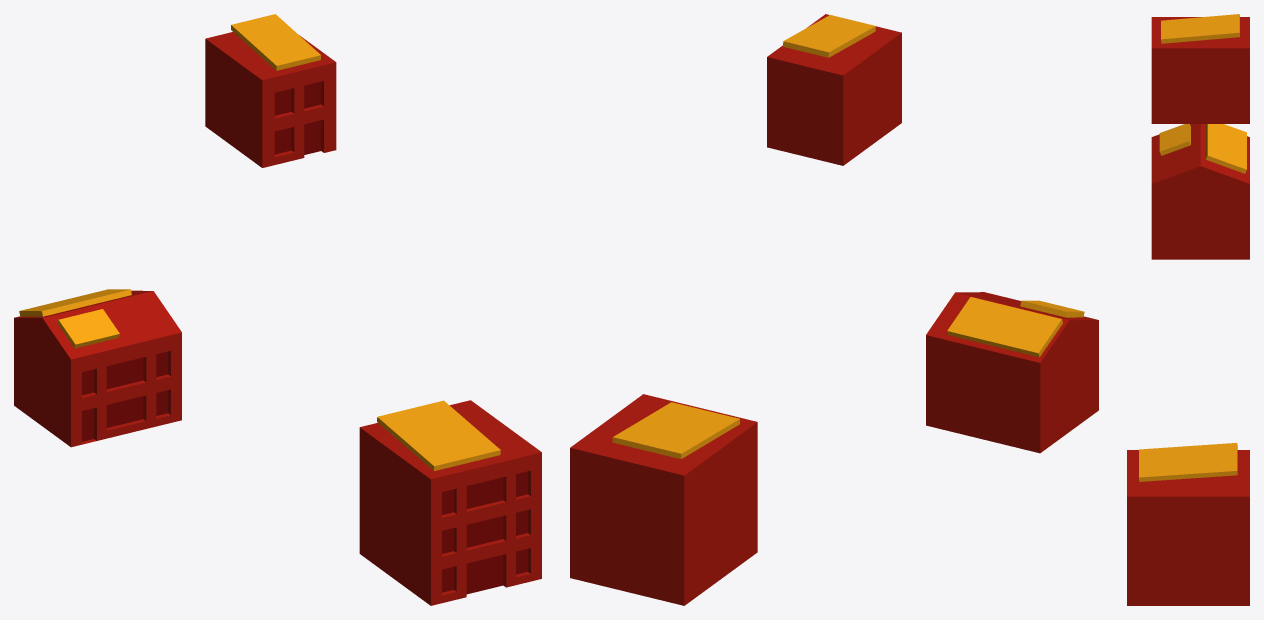
The model's file is BinaGrup17.gltf.
3 views of the same model, side by side, from view 1: azimuth 30°, elevation 25°; view 2: azimuth 150°, elevation 25°; view 3: azimuth 270°, elevation 25° (orthographic). The views are drawn at different scales.
Visible parts, largest first — view 1: Building_047.003, Building_032.003, Building_038.003, Building_047_RoofCap_0.001, Building_047.005, Building_038_RoofCap_0.001, Building_032.005, Building_032_RoofCap_0.001, Building_038.005, Building_032_RoofCap_1.001, Building_047.004; view 2: Building_047.003, Building_032.003, Building_038.003, Building_032_RoofCap_1.001, Building_047_RoofCap_0.001, Building_038_RoofCap_0.001; view 3: Building_047.003, Building_032.003, Building_038.003, Building_047_RoofCap_0.001, Building_038_RoofCap_0.001, Building_032_RoofCap_1.001, Building_032_RoofCap_0.001.
Part boxes in pixels (x1,y1,x2,y2): Building_047.003: (359, 400, 541, 605); Building_032.003: (14, 290, 181, 447); Building_038.003: (205, 32, 336, 167); Building_047_RoofCap_0.001: (377, 400, 500, 470); Building_047.005: (442, 471, 527, 592); Building_038_RoofCap_0.001: (231, 14, 320, 70); Building_032.005: (82, 351, 167, 427); Building_032_RoofCap_0.001: (57, 309, 119, 348); Building_038.005: (274, 81, 321, 154); Building_032_RoofCap_1.001: (19, 289, 131, 316); Building_047.004: (466, 555, 503, 594); Building_047.003: (570, 394, 757, 605); Building_032.003: (926, 292, 1098, 453); Building_038.003: (767, 14, 901, 165); Building_032_RoofCap_1.001: (947, 297, 1062, 357); Building_047_RoofCap_0.001: (612, 402, 739, 458); Building_038_RoofCap_0.001: (783, 15, 875, 57); Building_047.003: (1127, 450, 1249, 605); Building_032.003: (1151, 124, 1249, 259); Building_038.003: (1151, 17, 1249, 123); Building_047_RoofCap_0.001: (1139, 443, 1237, 481); Building_038_RoofCap_0.001: (1161, 14, 1239, 43); Building_032_RoofCap_1.001: (1205, 124, 1246, 173); Building_032_RoofCap_0.001: (1159, 124, 1190, 155).
Size of the model in its own units: 0.2011 by 0.2382 by 0.0543.
